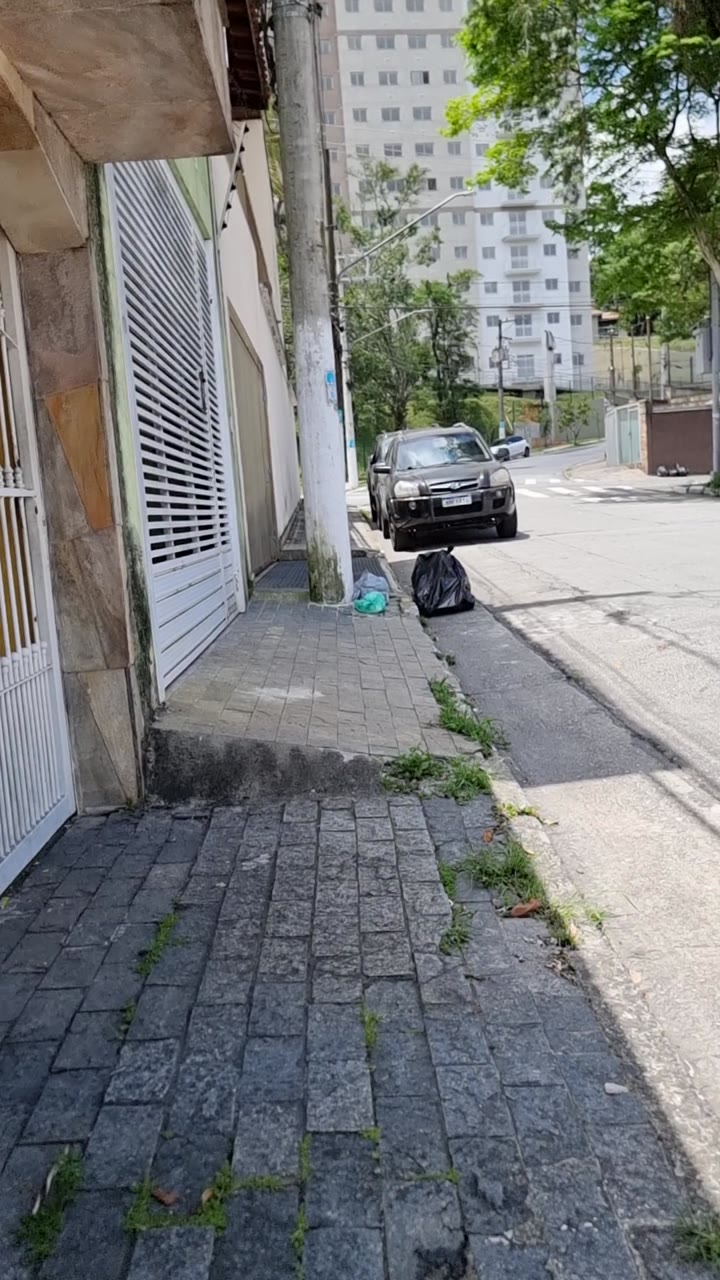desnivel: (144, 640, 432, 717)
obstaculo: (302, 0, 360, 550), (410, 525, 475, 602), (353, 538, 396, 589)
